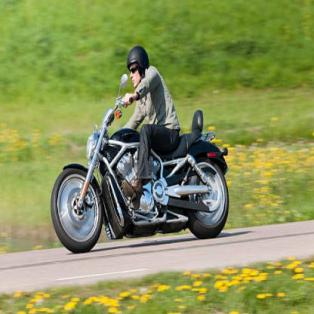Motocicleta: (49, 90, 237, 241)
